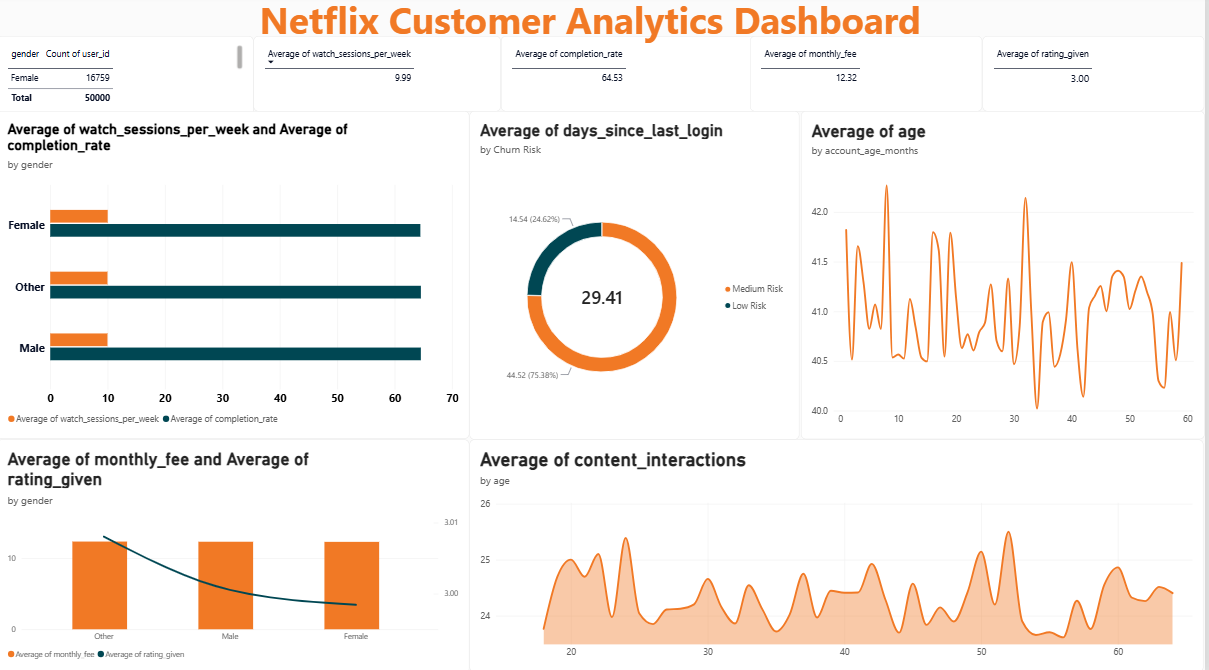

The page's visual inventory and layout, read from the dashboard file:
{"tool":"powerbi","page":{"name":"Netflix Customer Analytics Dashboard","canvas":[1920,1080],"ordinal":0},"visuals":[{"type":"tableEx","fields":{"Values":["netflix_user_behavior_dataset.gender","netflix_user_behavior_dataset.user_id"]},"box":[0,66.8,408,128.8],"z":0},{"type":"tableEx","fields":{"Values":["Avg(netflix_user_behavior_dataset.watch_sessions_per_week)"]},"box":[408.2,66.6,393.2,120.3],"z":1000},{"type":"tableEx","fields":{"Values":["Avg(netflix_user_behavior_dataset.completion_rate)"]},"box":[801.4,66.6,423.3,120.3],"z":2000},{"type":"tableEx","fields":{"Values":["Avg(netflix_user_behavior_dataset.monthly_fee)"]},"box":[1196.8,66.6,369.6,120.3],"z":3000},{"type":"tableEx","fields":{"Values":["Avg(netflix_user_behavior_dataset.rating_given)"]},"box":[1567.5,66.8,352.4,120.3],"z":4000},{"type":"clusteredBarChart","fields":{"Category":["netflix_user_behavior_dataset.gender"],"Y":["Avg(netflix_user_behavior_dataset.watch_sessions_per_week)","Avg(netflix_user_behavior_dataset.completion_rate)"]},"box":[0,187.1,751.2,521.6],"z":5000},{"type":"donutChart","fields":{"Category":["netflix_user_behavior_dataset.Churn Risk"],"Y":["Avg(netflix_user_behavior_dataset.days_since_last_login)"]},"box":[751.6,186.1,524.9,522.5],"z":6000},{"type":"lineClusteredColumnComboChart","fields":{"Category":["netflix_user_behavior_dataset.gender"],"Y":["Avg(netflix_user_behavior_dataset.monthly_fee)"],"Y2":["Avg(netflix_user_behavior_dataset.rating_given)"]},"box":[0,708.6,751.6,372.2],"z":7000},{"type":"stackedAreaChart","fields":{"Category":["netflix_user_behavior_dataset.age"],"Y":["Avg(netflix_user_behavior_dataset.content_interactions)"]},"box":[751.8,708.6,1167.5,370.2],"z":8000},{"type":"lineChart","fields":{"Category":["netflix_user_behavior_dataset.account_age_months"],"Y":["Avg(netflix_user_behavior_dataset.age)"]},"box":[1278.9,186.1,642,522],"z":9000},{"type":"textbox","box":[100.2,0,1686.8,100.2],"z":10000}]}

Visuals, with their boxes in screenshot pixels (x1, y1, x2, y2), scaled from the page's 1920x1080 canvas onto the 1209x670 screenshot:
tableEx - netflix_user_behavior_dataset.gender x netflix_user_behavior_dataset.user_id: [0, 41, 257, 121]
tableEx - Avg(netflix_user_behavior_dataset.watch_sessions_per_week): [257, 41, 505, 116]
tableEx - Avg(netflix_user_behavior_dataset.completion_rate): [505, 41, 771, 116]
tableEx - Avg(netflix_user_behavior_dataset.monthly_fee): [754, 41, 986, 116]
tableEx - Avg(netflix_user_behavior_dataset.rating_given): [987, 41, 1208, 116]
clusteredBarChart - netflix_user_behavior_dataset.gender x Avg(netflix_user_behavior_dataset.watch_sessions_per_week): [0, 116, 473, 440]
donutChart - netflix_user_behavior_dataset.Churn Risk x Avg(netflix_user_behavior_dataset.days_since_last_login): [473, 115, 804, 440]
lineClusteredColumnComboChart - netflix_user_behavior_dataset.gender x Avg(netflix_user_behavior_dataset.monthly_fee): [0, 440, 473, 669]
stackedAreaChart - netflix_user_behavior_dataset.age x Avg(netflix_user_behavior_dataset.content_interactions): [473, 440, 1208, 669]
lineChart - netflix_user_behavior_dataset.account_age_months x Avg(netflix_user_behavior_dataset.age): [805, 115, 1208, 439]
textbox: [63, 0, 1125, 62]
